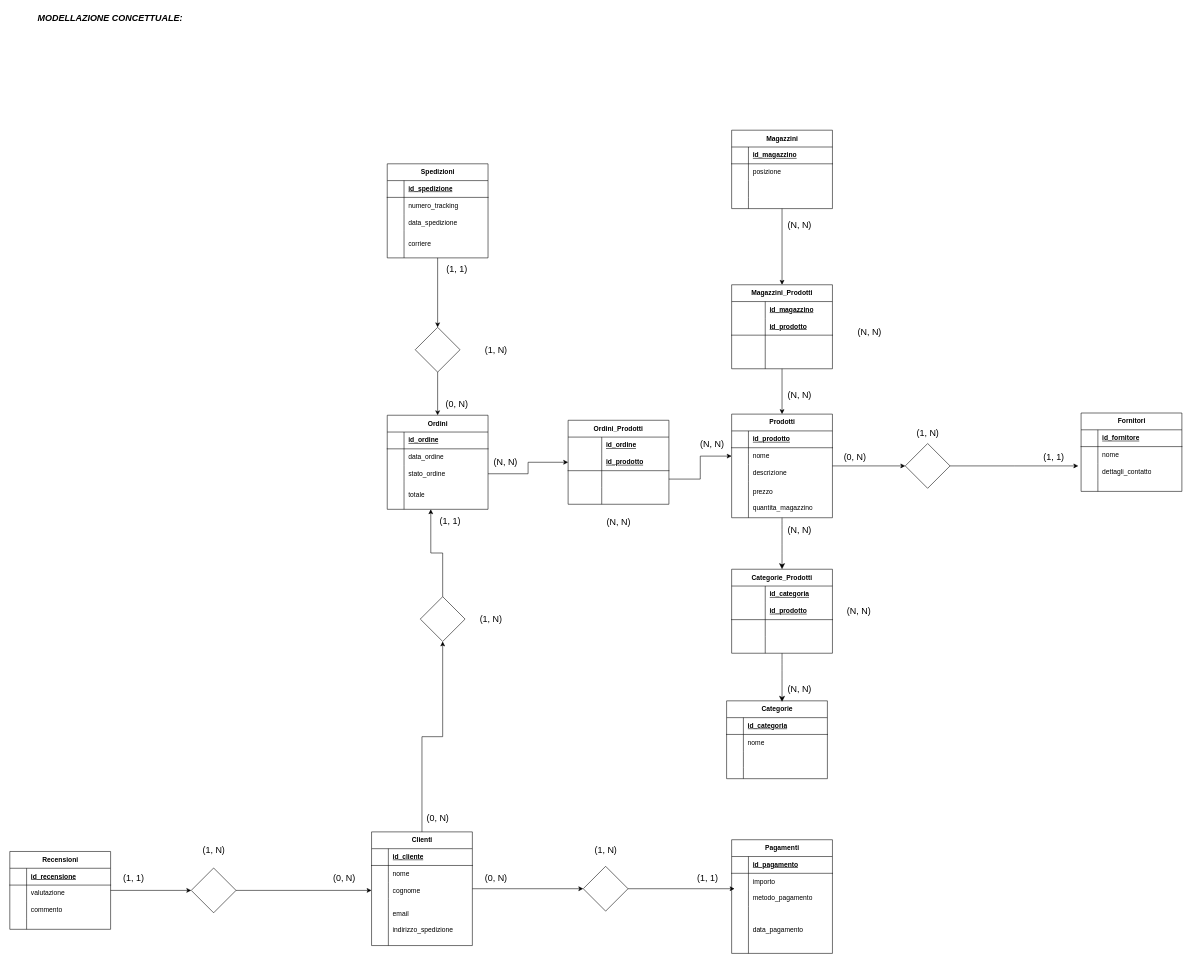
This 1192x963 diagram has some shape labels left out. The shapes that lost their labels are listed below. From the top down, each one's centre as x and y in pixels, then its label:
point 437,349: di
point 927,465: forniti da
point 442,618: effettuano
point 213,890: lasciate da
point 605,888: eseguono
